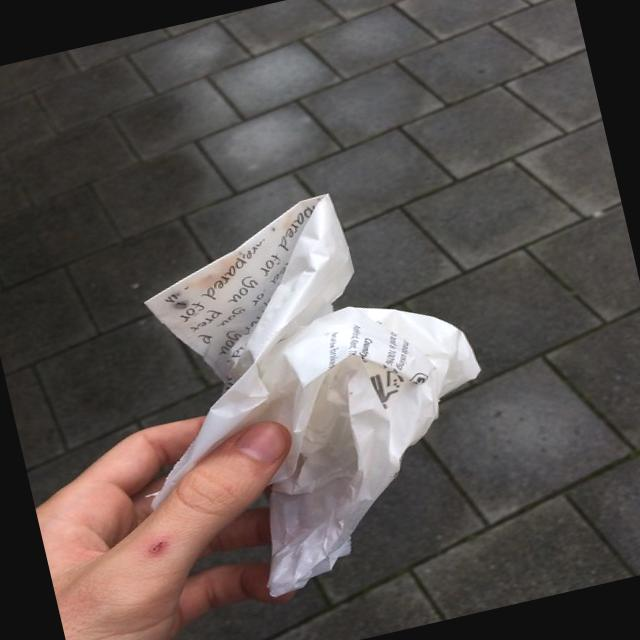Recycle: (94, 167, 522, 620)
